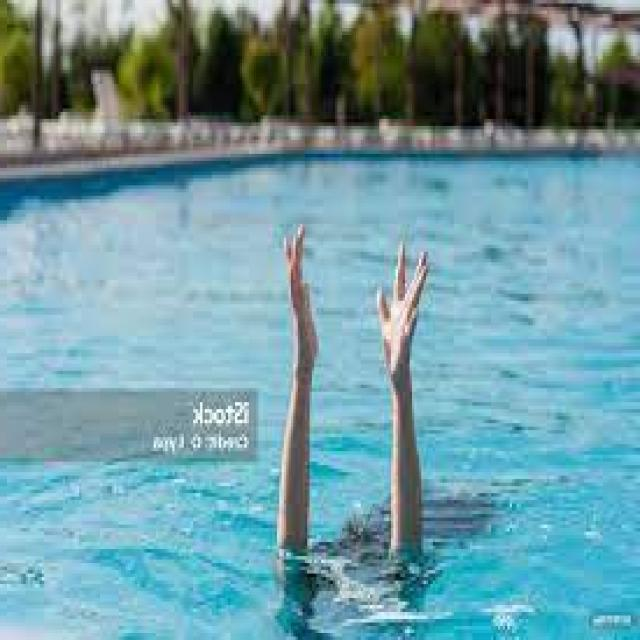drowning: (263, 218, 440, 640)
